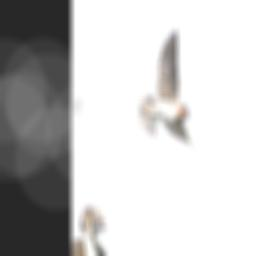Swallow: (127, 23, 225, 183)
